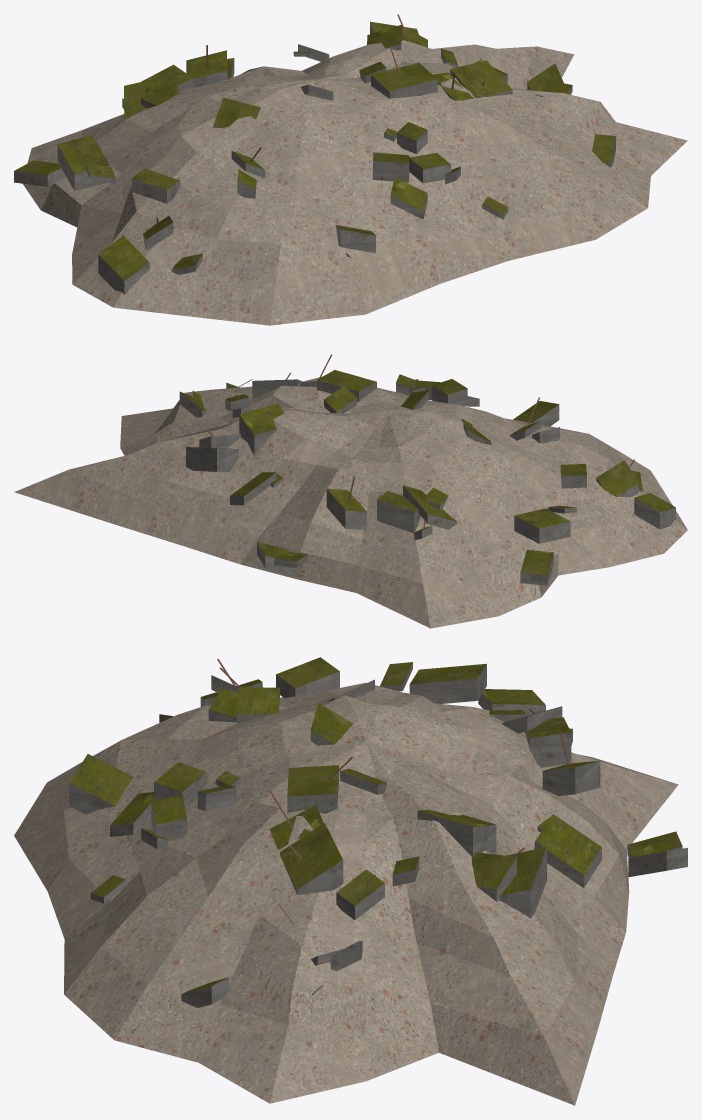
File: rubble_c.gltf
3 views of the same model, one above another, from view 1: azimuth 30°, elevation 25°; view 2: azimuth 150°, elevation 25°; view 3: azimuth 270°, elevation 25° (orthographic). The views are drawn at different scales.
Visible parts, largest first — view 1: rubble_c; view 2: rubble_c; view 3: rubble_c.
Part boxes in pixels (x1=…): rubble_c: x1=14, y1=14, x2=687, y2=325; rubble_c: x1=14, y1=354, x2=687, y2=628; rubble_c: x1=14, y1=657, x2=687, y2=1105.
Bounding box in the file's own units: 13.88 × 2.93 × 10.11.
